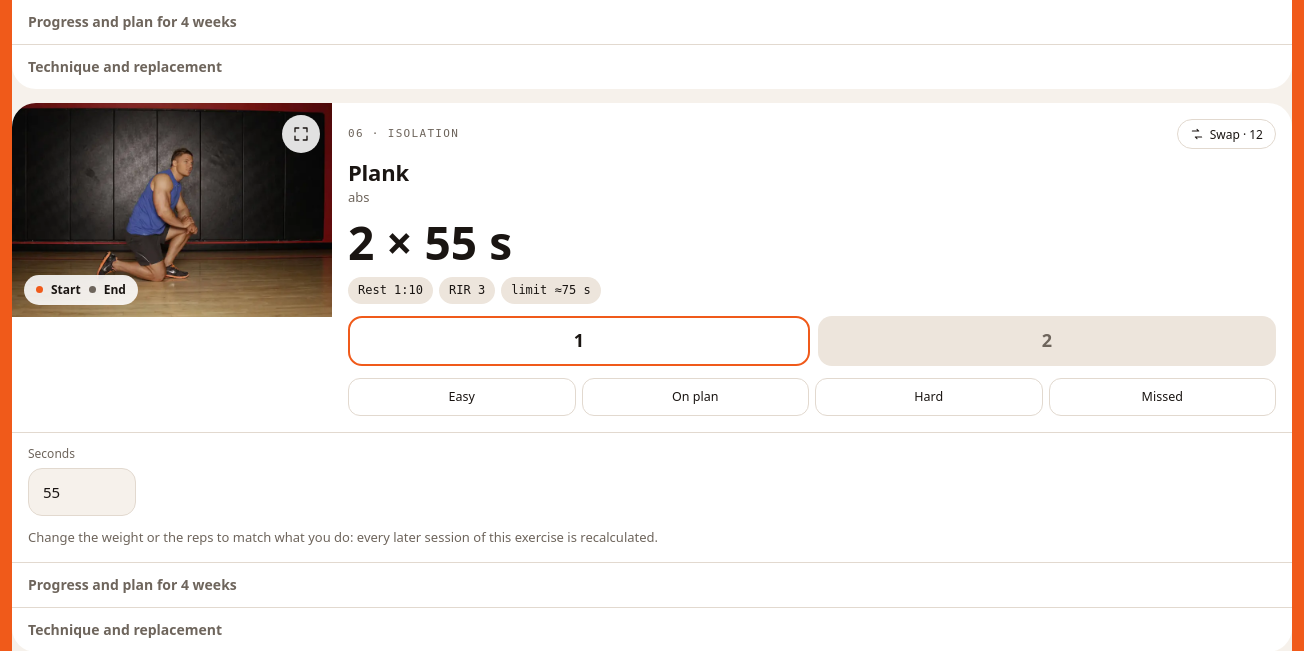
Test: SessionScreen: edits › edits the seconds of a hold
(page scrolled)
Replace the text in the field labelled "Seconds" with "70" at (82, 492), box [28,468,136,516]
Then press Enter
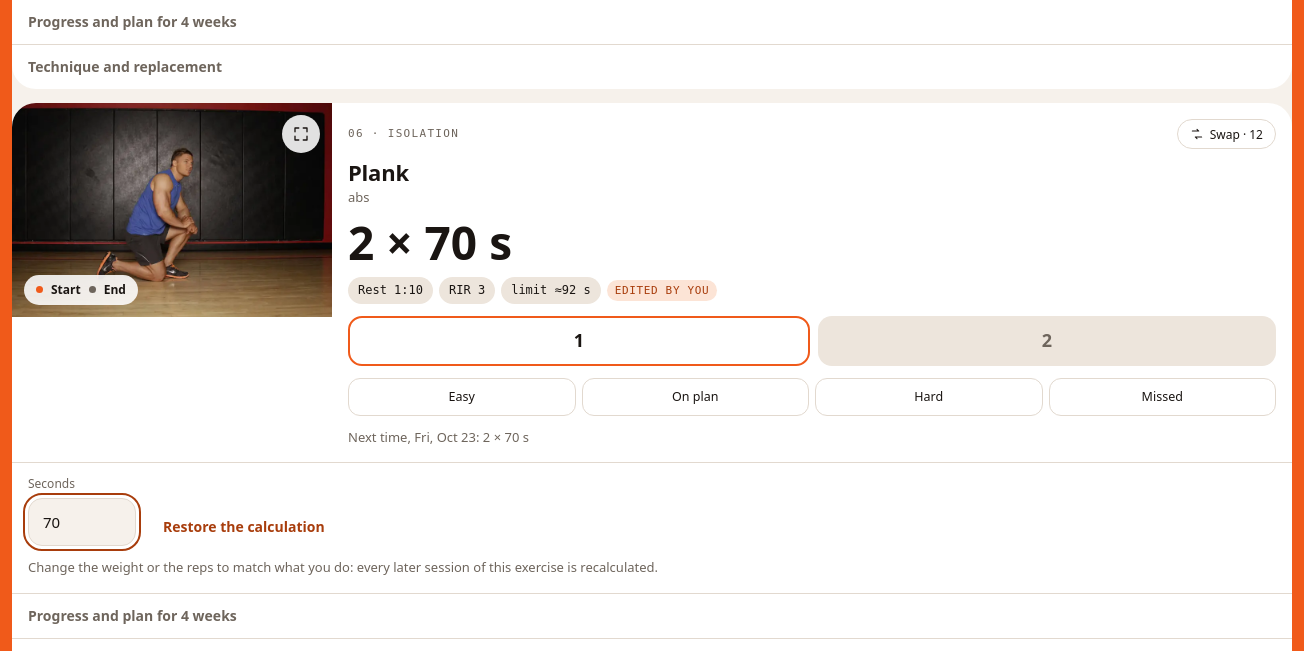
Now the element "Plank" shows "2 × 70 s", box [348,211,512,273]
